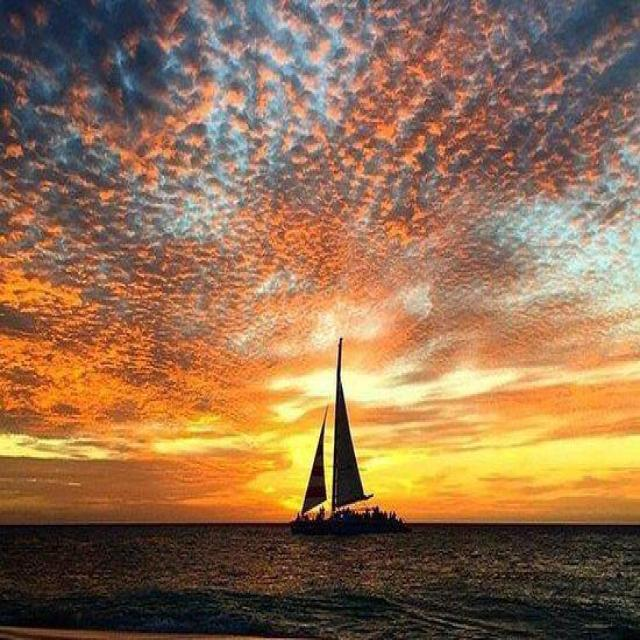other: (37, 162, 623, 502)
